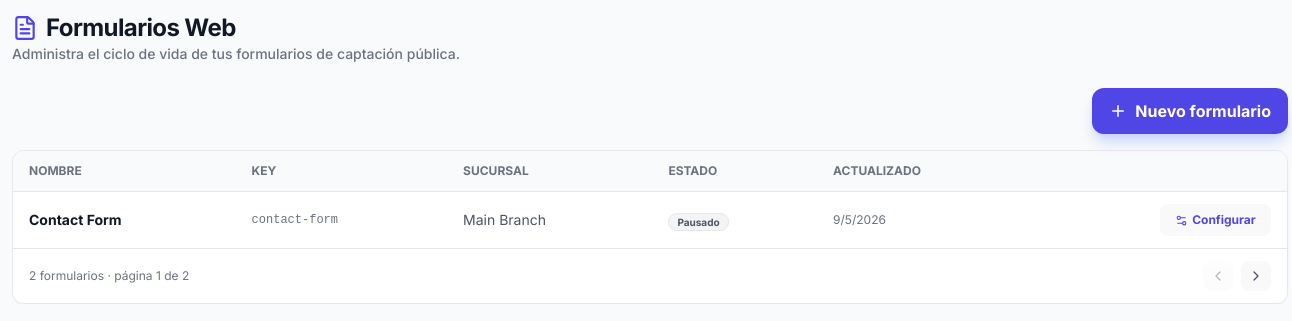
PublicLeadForms — list states › paginates server-side without accumulating all pages in memory
This screenshot has width=1292, height=321.
Expected: the text "Contact Form" is shown, [13,192,236,248]
Click the button named "Página siguiente" at (1256, 276), box [1241,261,1271,291]
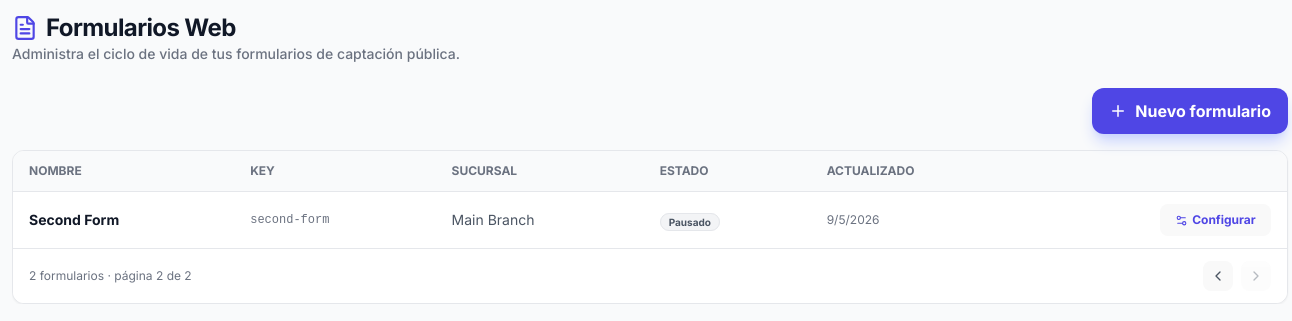
Expected: the text "Second Form" is shown, [13,192,234,248]
Expected: the text "Contact Form" is gone
